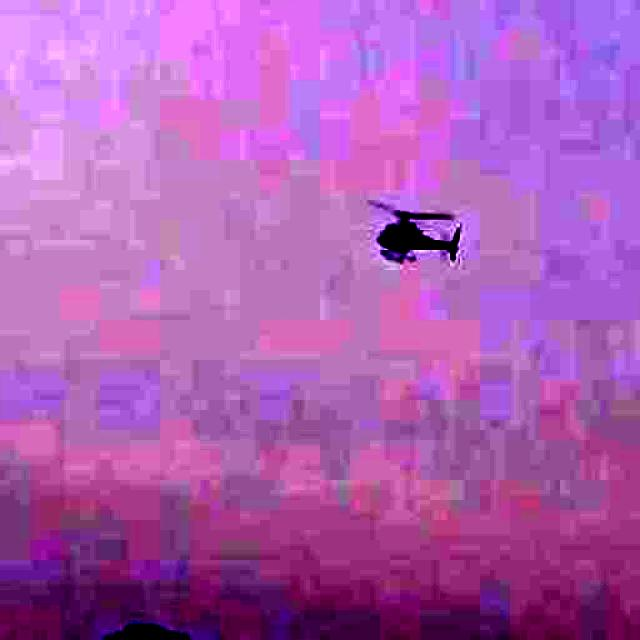drone: (335, 170, 479, 290)
